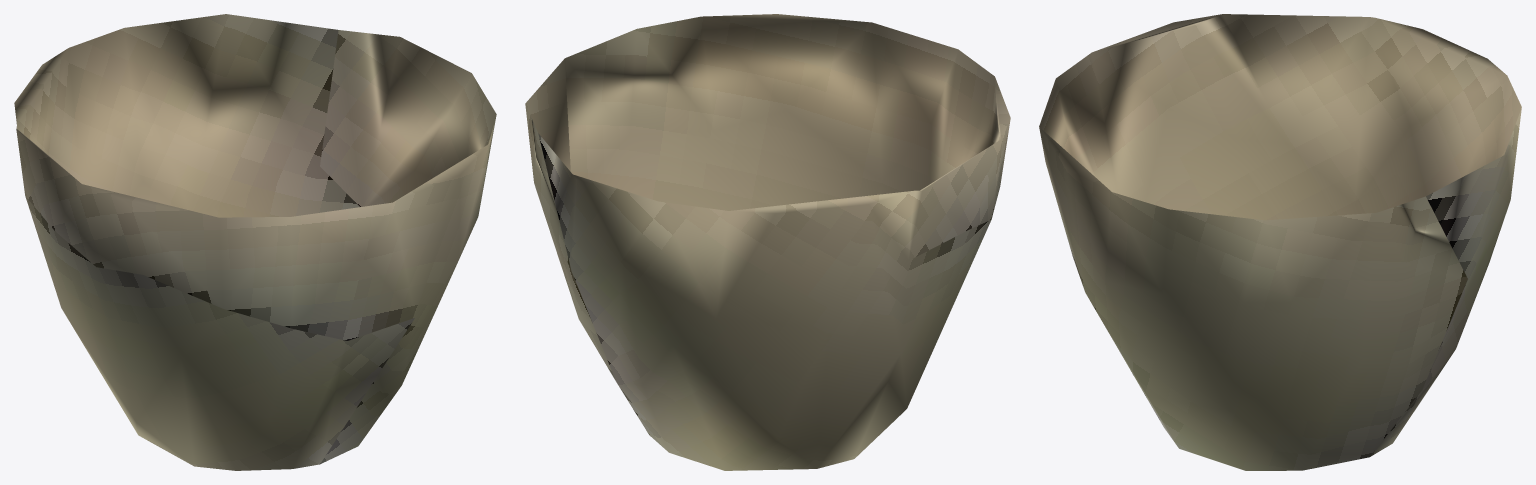
The model's file is Ecoforms_Cup_B4_SAN-low.glb.
The picture shows the model from 3 angles, left to right: view 1: azimuth 30°, elevation 25°; view 2: azimuth 150°, elevation 25°; view 3: azimuth 270°, elevation 25°; orthographic projection.
Parts seen in each view (by area): view 1: Ecoforms_Cup_B4_SAN; view 2: Ecoforms_Cup_B4_SAN; view 3: Ecoforms_Cup_B4_SAN.
Boxes of the visible parts, x1,y1,x2,y2 form: Ecoforms_Cup_B4_SAN: (14, 14, 496, 470); Ecoforms_Cup_B4_SAN: (525, 14, 1010, 470); Ecoforms_Cup_B4_SAN: (1039, 14, 1521, 470).
Size of the model in its own units: 0.0981 by 0.071 by 0.0993.
Materials: 1 (1 with a texture image).
